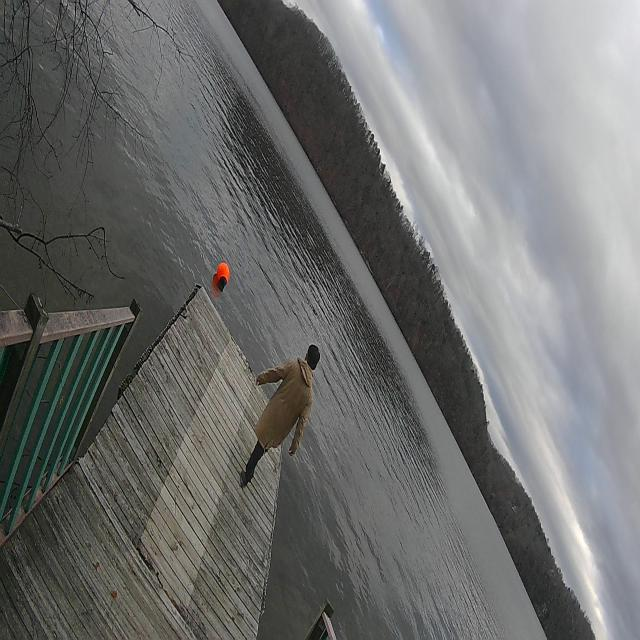Buoy: (215, 252, 232, 298)
